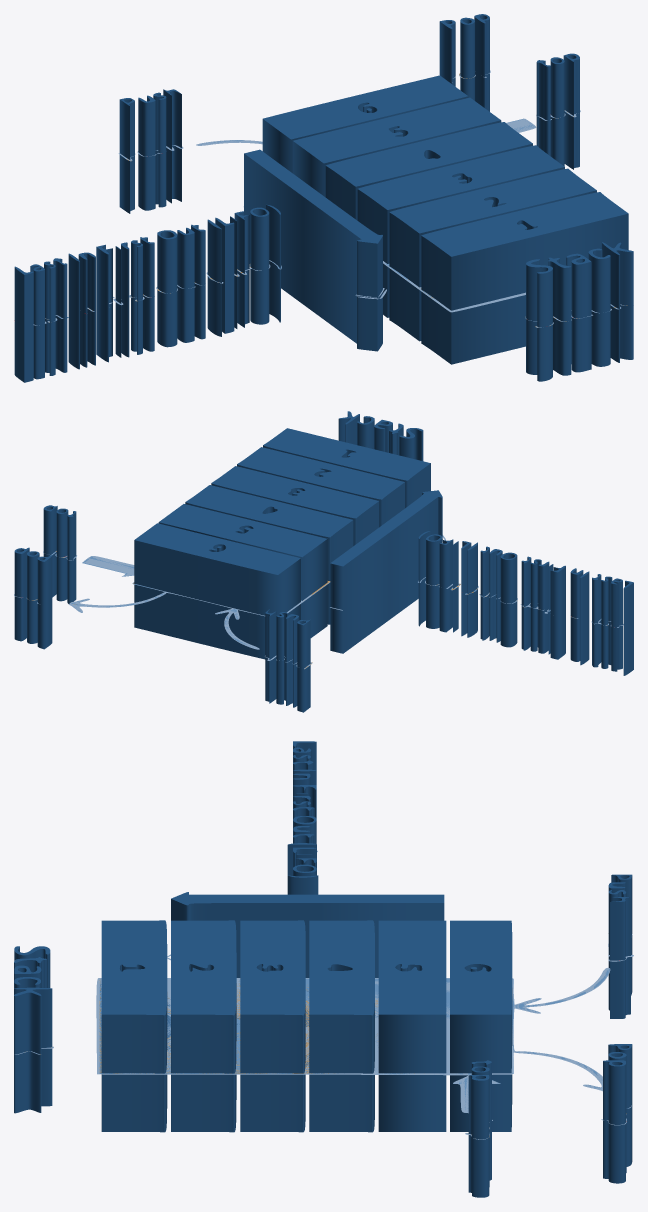
The model's file is stack.fbx.
The picture shows the model from 3 angles, top to bottom: view 1: azimuth 30°, elevation 25°; view 2: azimuth 150°, elevation 25°; view 3: azimuth 270°, elevation 25°; orthographic projection. The views are drawn at different scales.
Parts seen in each view (by area): view 1: path96, path104; view 2: path96, path104, path102; view 3: path96, path104, path102, path100.
Part boxes in pixels (x1,y1,x2,y2): path96: [14, 14, 633, 382]; path104: [33, 70, 621, 327]; path96: [14, 411, 633, 712]; path104: [14, 535, 623, 668]; path102: [21, 552, 623, 666]; path96: [14, 741, 632, 1197]; path104: [15, 850, 633, 1139]; path102: [22, 934, 633, 1138]; path100: [40, 979, 626, 1136].
Bounding box in the file's own units: 12.45 × 2 × 9.59.
